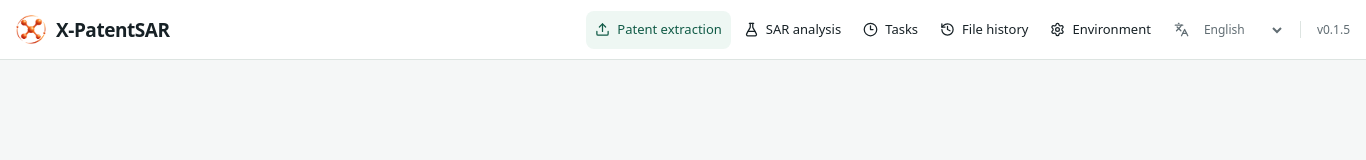
one application-owned localization authority › switches live navigation, accessible names, document language and its one preference
Select "中文" in the dropdown named "Interface language" at (1240, 30), box [1194, 12, 1286, 48]
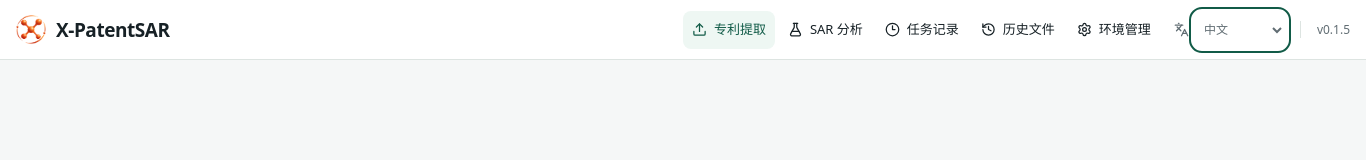
Select "English" in the dropdown named "界面语言" at (1240, 30), box [1194, 12, 1286, 48]
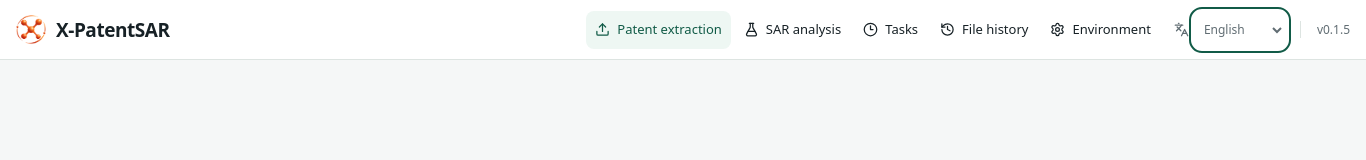
Expected: the button "Patent extraction" is shown, [586, 10, 731, 48]
Select "中文" in the dropdown named "Interface language" at (1240, 30), box [1194, 12, 1286, 48]
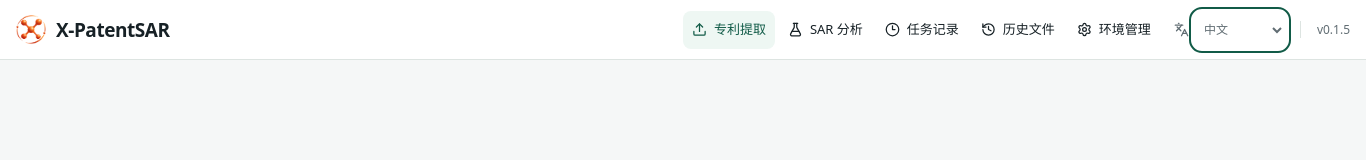
Expected: the button "专利提取" is shown, [683, 10, 775, 48]
